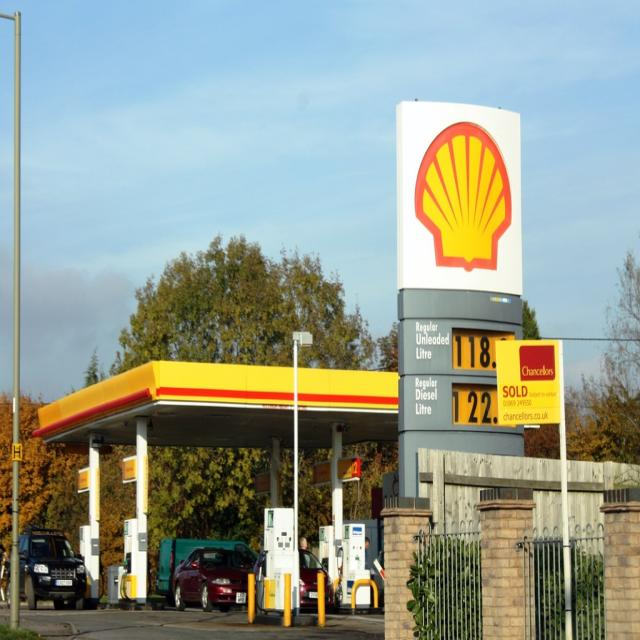shell: (414, 121, 514, 275)
